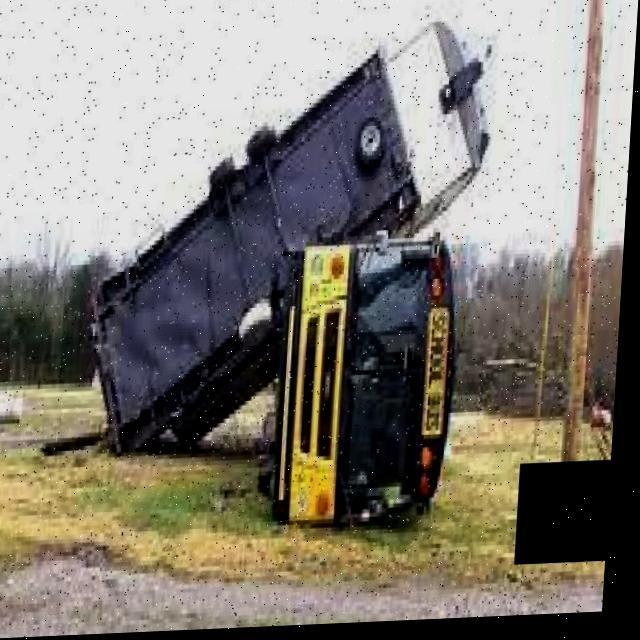single accident: (68, 0, 515, 555)
